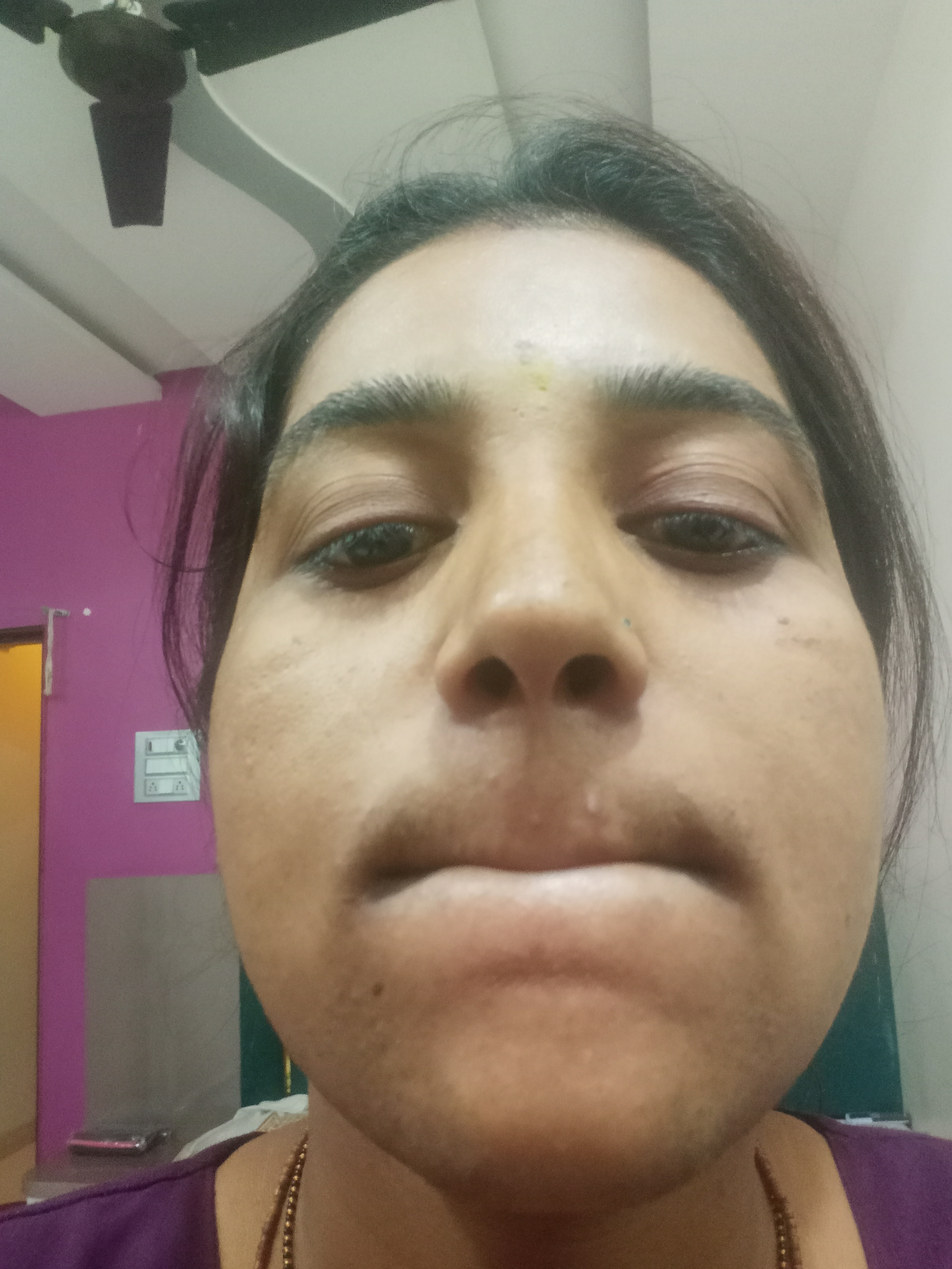macrocomedone: (579, 794, 615, 820), (521, 805, 547, 835)
